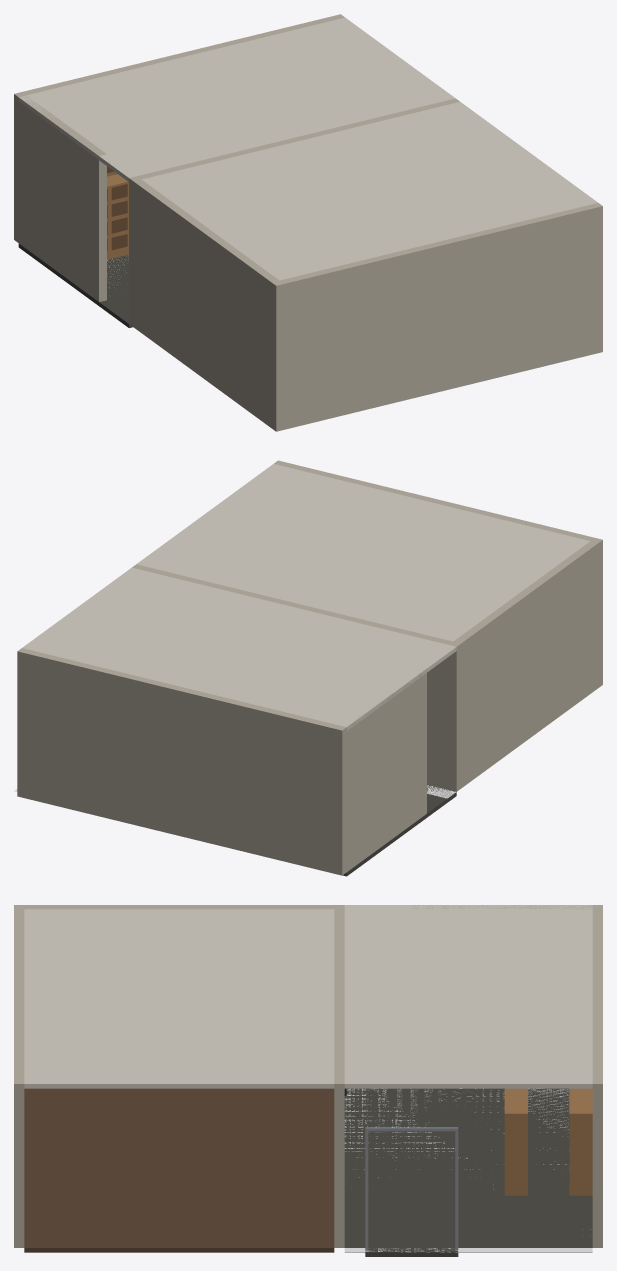
Rendered from lobby.glb.
3 views of the same model, one above another, from view 1: azimuth 30°, elevation 25°; view 2: azimuth 150°, elevation 25°; view 3: azimuth 270°, elevation 25° (orthographic). The views are drawn at different scales.
Parts seen in each view (by area): view 1: LobbyShell, LobbyDetail; view 2: LobbyShell; view 3: LobbyShell, LobbyDetail, Walk_Lobby.
Part boxes in pixels (left/top/right/bottom): LobbyShell: left=14, top=14, right=602, bottom=431; LobbyDetail: left=107, top=166, right=128, bottom=259; LobbyShell: left=17, top=460, right=602, bottom=876; LobbyShell: left=14, top=905, right=602, bottom=1256; LobbyDetail: left=344, top=1088, right=592, bottom=1249; Walk_Lobby: left=344, top=1088, right=592, bottom=1252.
Bounding box in the file's own units: 8.4 × 3.6 × 11.4.
